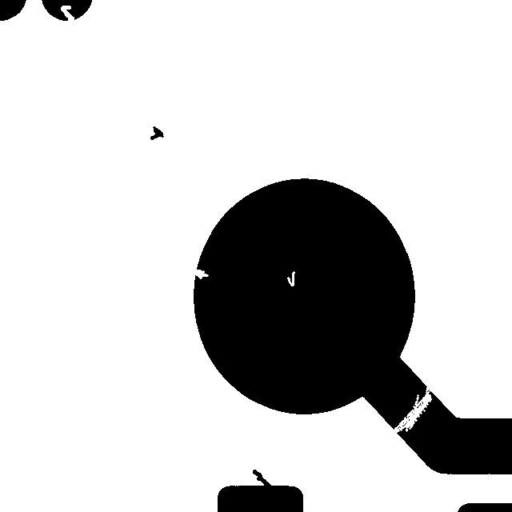copper: (142, 118, 171, 147)
mousebite: (183, 262, 216, 286), (53, 1, 80, 26)
open: (378, 375, 440, 447)
pin-hole: (279, 263, 302, 294)
spur: (245, 462, 282, 499)
